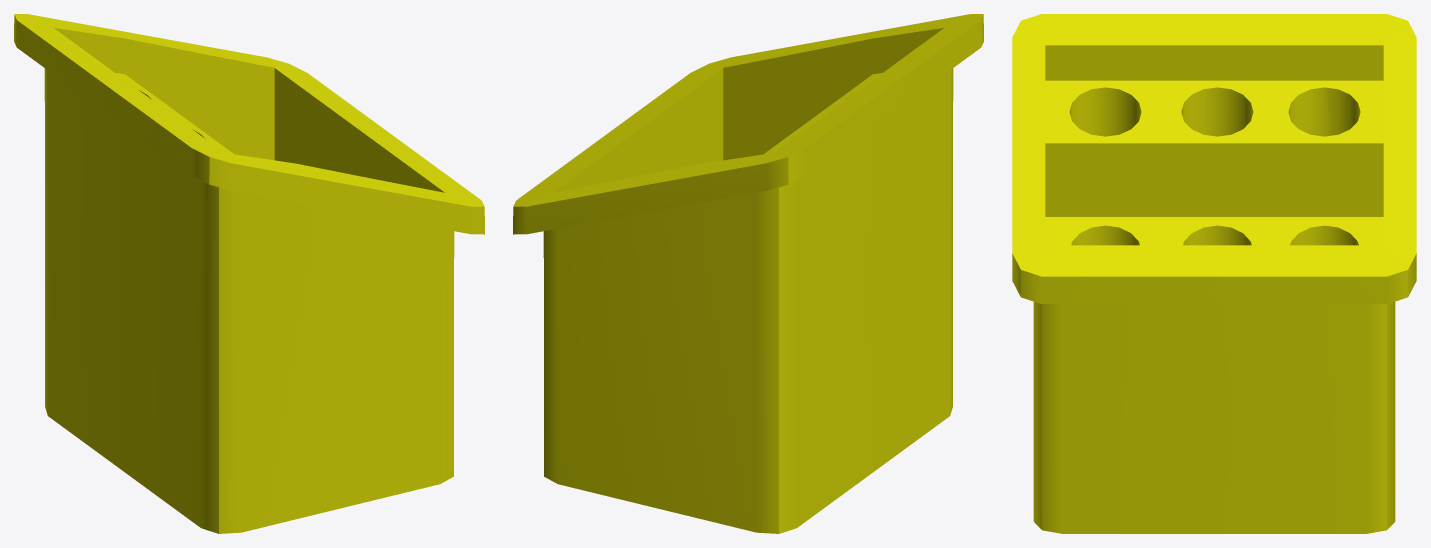
Rendered from umstand.fbx.
3 views of the same model, side by side, from view 1: azimuth 30°, elevation 25°; view 2: azimuth 150°, elevation 25°; view 3: azimuth 270°, elevation 25° (orthographic).
Visible parts, largest first — view 1: umstand; view 2: umstand; view 3: umstand.
Part boxes in pixels (box(x1,y1,x2,y2)): umstand: box(14, 14, 484, 533); umstand: box(513, 14, 983, 533); umstand: box(1012, 14, 1416, 533).
Size of the model in its own units: 0.7025 by 0.909 by 0.8548.
